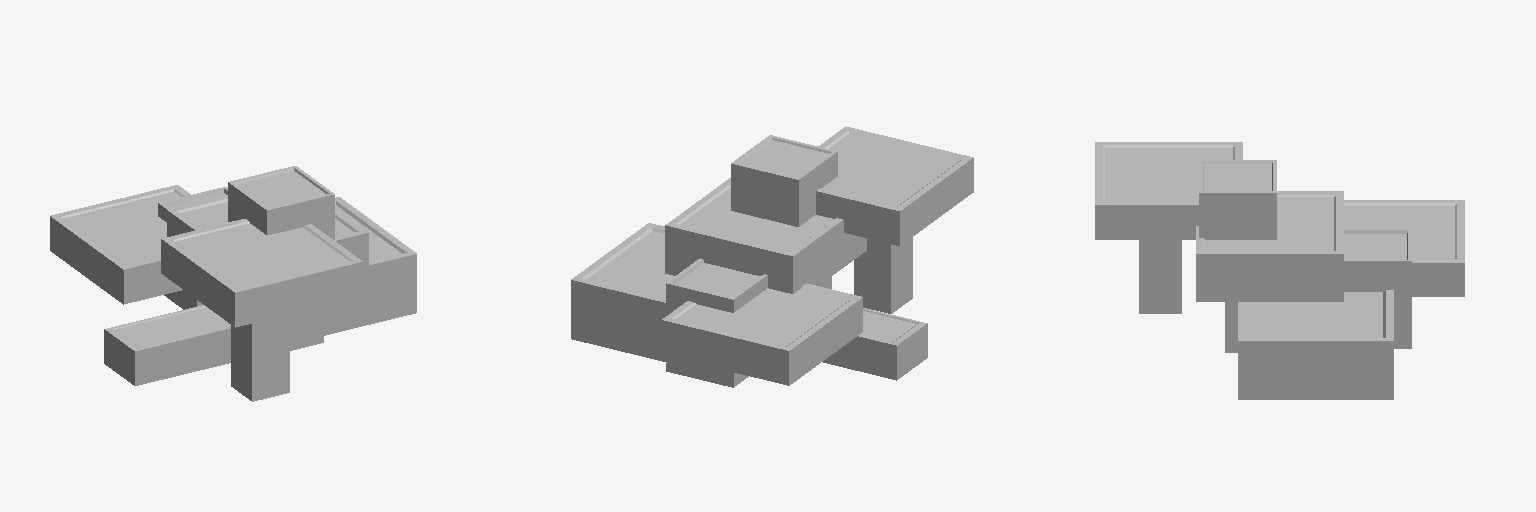
File: PoiMall.obj
The picture shows the model from 3 angles: view 1: azimuth 30°, elevation 25°; view 2: azimuth 150°, elevation 25°; view 3: azimuth 270°, elevation 25°; orthographic projection.
Parts seen in each view (by area): view 1: MALL PROPS; view 2: MALL PROPS; view 3: MALL PROPS.
Boxes of the visible parts, x1,y1,x2,y2 form: MALL PROPS: [50, 166, 416, 401]; MALL PROPS: [571, 126, 973, 387]; MALL PROPS: [1095, 142, 1464, 399].
Bounding box in the file's own units: 7.45 × 4.16 × 8.5.